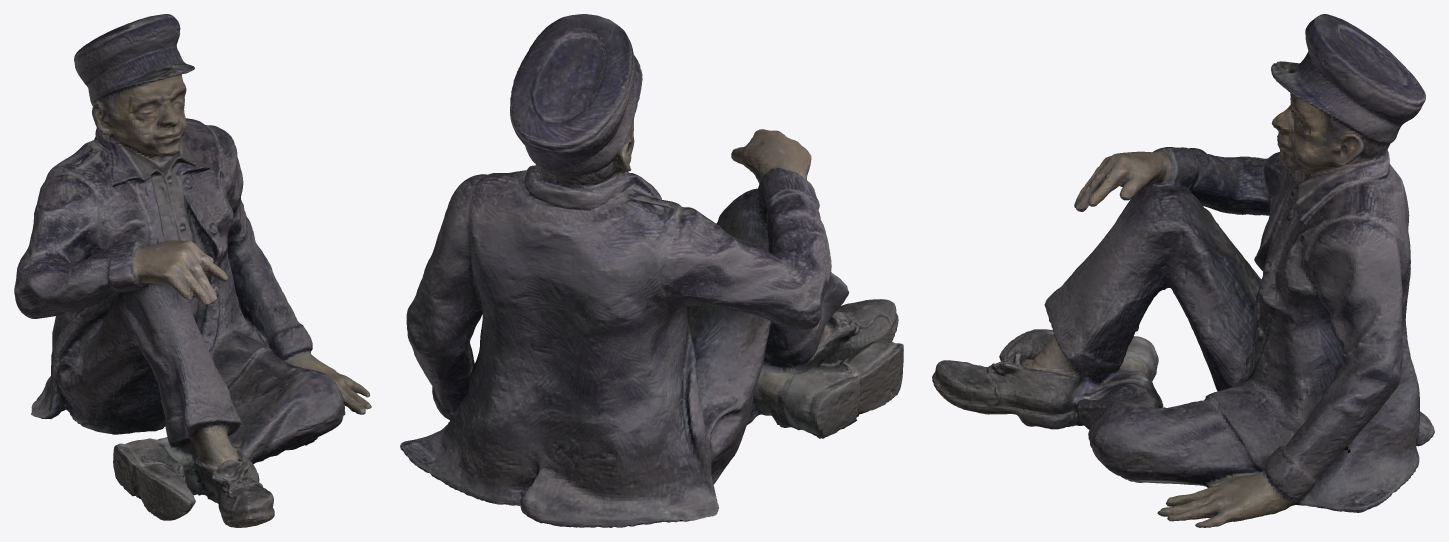
File: khanna-untitled-seated-man.glb
The picture shows the model from 3 angles, left to right: view 1: azimuth 30°, elevation 25°; view 2: azimuth 150°, elevation 25°; view 3: azimuth 270°, elevation 25°; orthographic projection. The views are drawn at different scales.
Visible parts, largest first — view 1: 12_Krishna_Khanna_ Baked; view 2: 12_Krishna_Khanna_ Baked; view 3: 12_Krishna_Khanna_ Baked.
Part boxes in pixels (x1=…): 12_Krishna_Khanna_ Baked: x1=14, y1=14, x2=371, y2=527; 12_Krishna_Khanna_ Baked: x1=400, y1=14, x2=903, y2=527; 12_Krishna_Khanna_ Baked: x1=932, y1=14, x2=1434, y2=527.
Bounding box in the file's own units: 28.6 × 31.65 × 34.59.
Materials: 1 (1 with a texture image).
